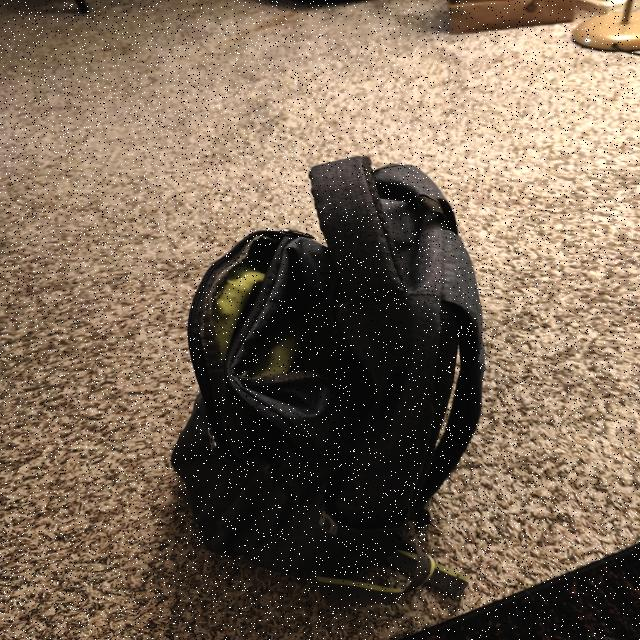bag: (188, 169, 472, 559)
